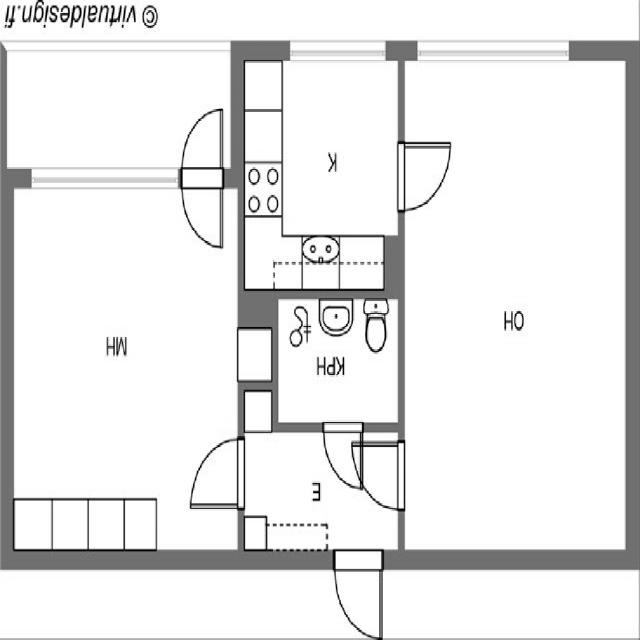door: (334, 551, 382, 640), (192, 440, 245, 507), (398, 142, 449, 208), (353, 443, 404, 509), (181, 167, 222, 248), (181, 108, 222, 188), (323, 423, 361, 488)
